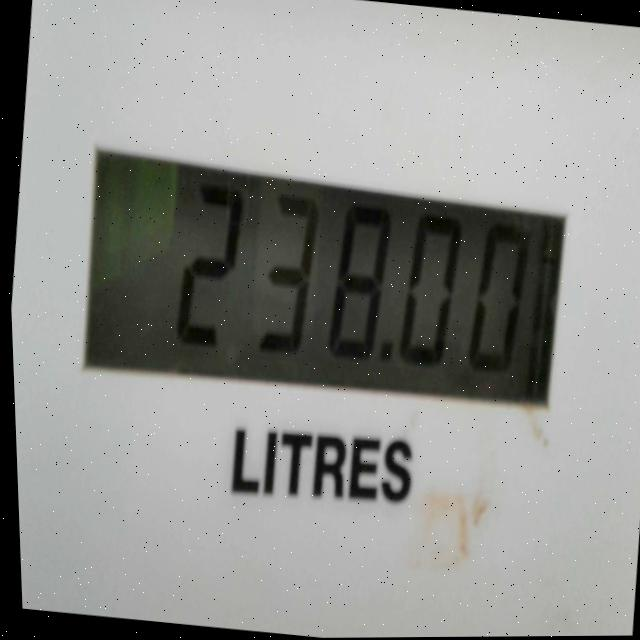.: (376, 338, 391, 361)
0: (393, 210, 464, 371), (461, 226, 528, 379)
2: (171, 181, 242, 346)
3: (258, 189, 320, 356)
8: (318, 196, 386, 362)
